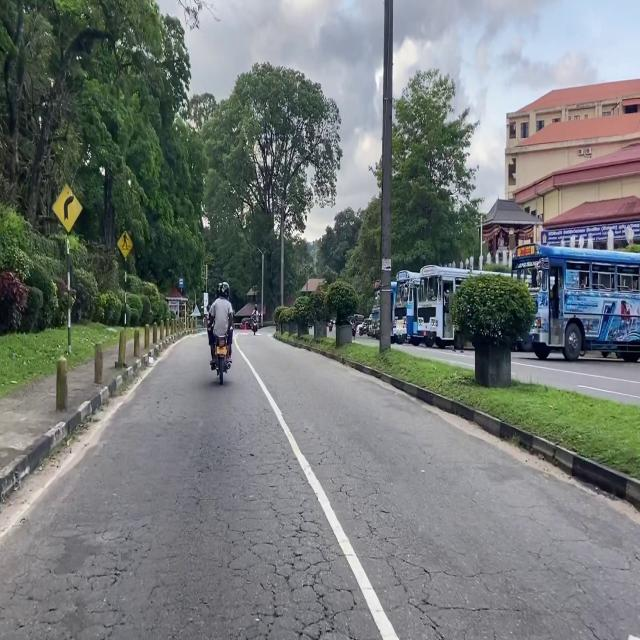bus: (513, 244, 640, 361), (417, 265, 477, 348), (393, 270, 422, 345), (370, 280, 396, 339)
motorcycle: (215, 337, 230, 385), (253, 321, 258, 335)
person: (208, 282, 233, 369), (252, 304, 258, 321), (352, 322, 356, 340)
